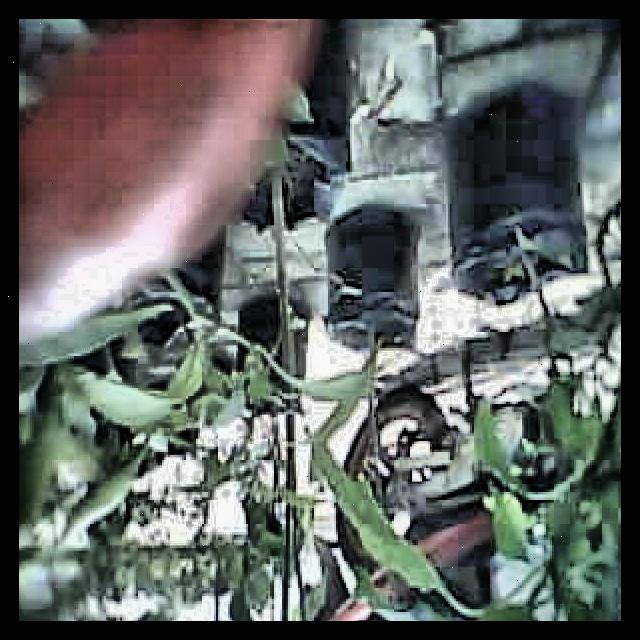Cabai: (19, 19, 254, 347)
